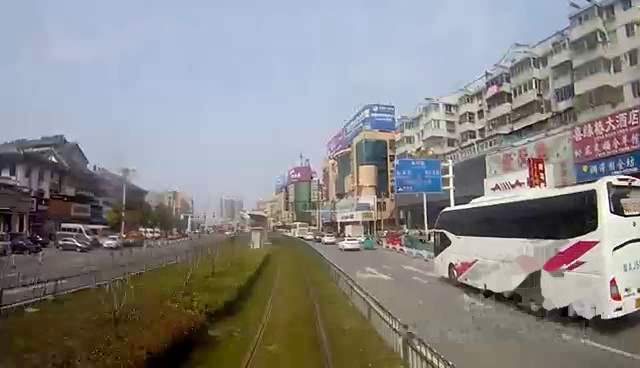bus: (441, 182, 640, 315)
